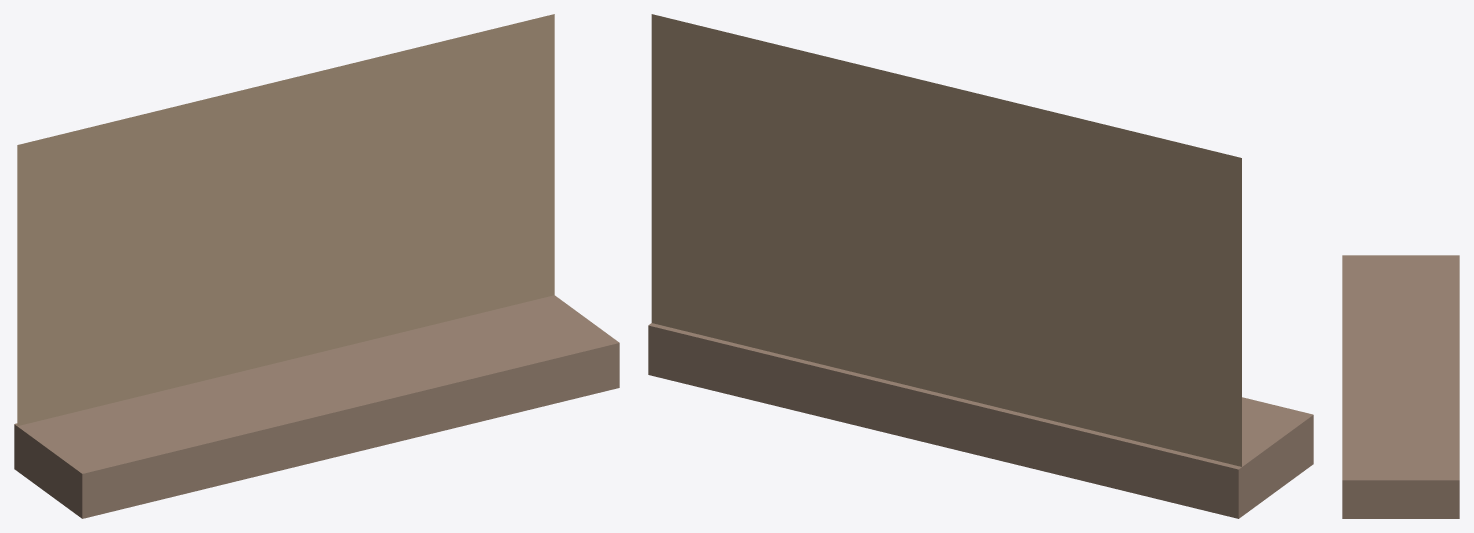
File: rod-rack.gltf
3 renders of one model, left to right at view 1: azimuth 30°, elevation 25°; view 2: azimuth 150°, elevation 25°; view 3: azimuth 270°, elevation 25°, orthographic. The views are drawn at different scales.
Visible parts, largest first — view 1: BackBoard, Base; view 2: BackBoard, Base; view 3: Base.
Part boxes in pixels (box(x1,y1,x2,y2)): BackBoard: box(17, 14, 554, 426); Base: box(14, 295, 619, 518); BackBoard: box(651, 14, 1241, 466); Base: box(648, 323, 1313, 518); Base: box(1342, 255, 1459, 518).
Size of the model in its own units: 1 by 0.58 by 0.22.
